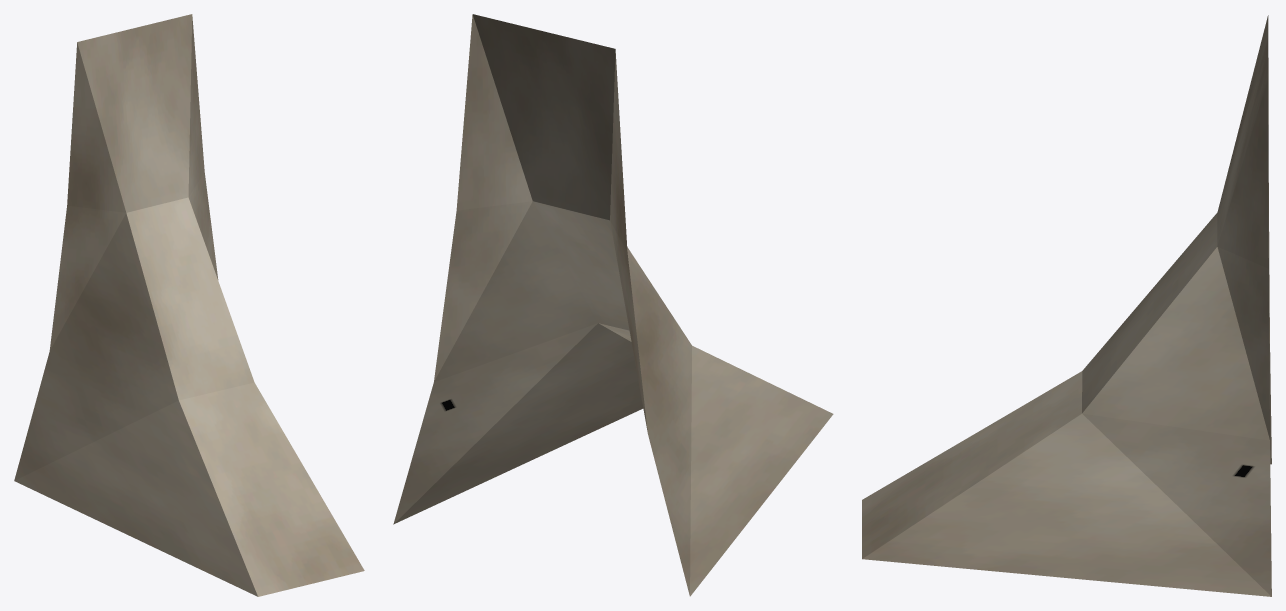
Rendered from web_07.fbx.
3 views of the same model, side by side, from view 1: azimuth 30°, elevation 25°; view 2: azimuth 150°, elevation 25°; view 3: azimuth 270°, elevation 25° (orthographic). The views are drawn at different scales.
Visible parts, largest first — view 1: obj0.177; view 2: obj0.177; view 3: obj0.177.
Part boxes in pixels (x1=…): obj0.177: x1=14, y1=14, x2=364, y2=596; obj0.177: x1=393, y1=14, x2=833, y2=596; obj0.177: x1=862, y1=15, x2=1271, y2=596.
Size of the model in its own units: 3.06 by 5.21 by 4.
